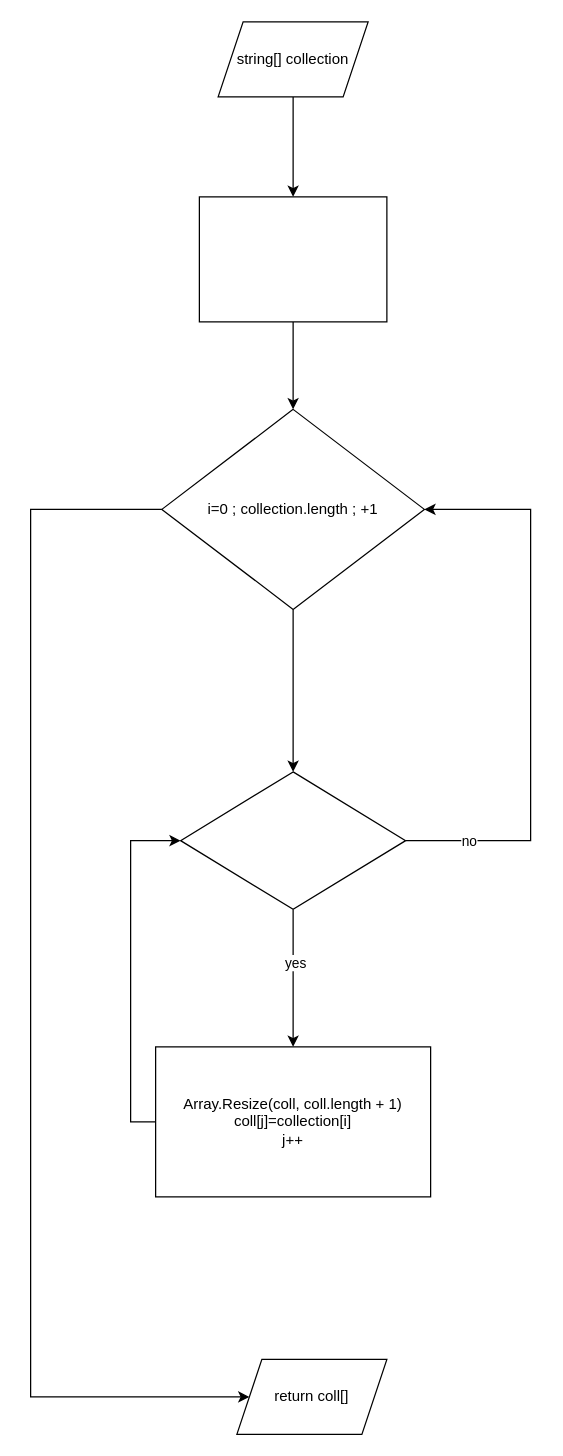
Some shapes in this 563 by 1456 pixel diagram are drawn without their labels. The shapes that lost their labels are listed below. From the top down, each one's centre as x and y in pixels, then its label:
At point 292,259: "string[] coll = new string[] int j = 0".
At point 292,840: "collection[i].length <=3".
